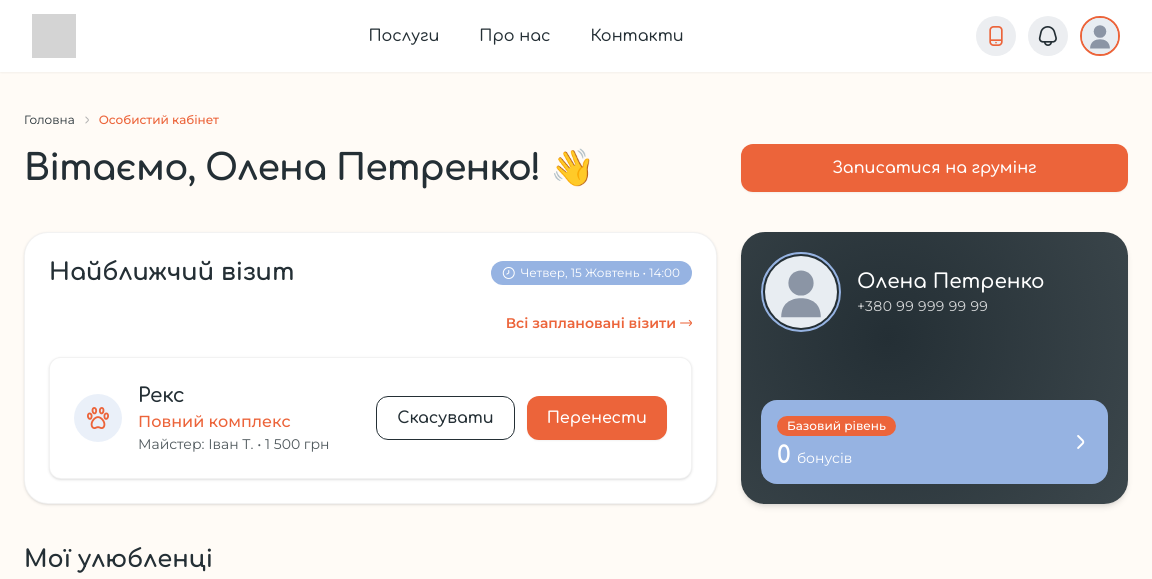
Test case: Profile Feature Components › ProfilePage Integration › cancels visit via Supabase update and renders empty state on success
The width and height of the screenshot is (1152, 579).
Expected: the text "Повний комплекс" is shown, x1=138 y1=412 x2=290 y2=431
Click the button "Скасувати" at (445, 418), box x1=376 y1=396 x2=515 y2=440
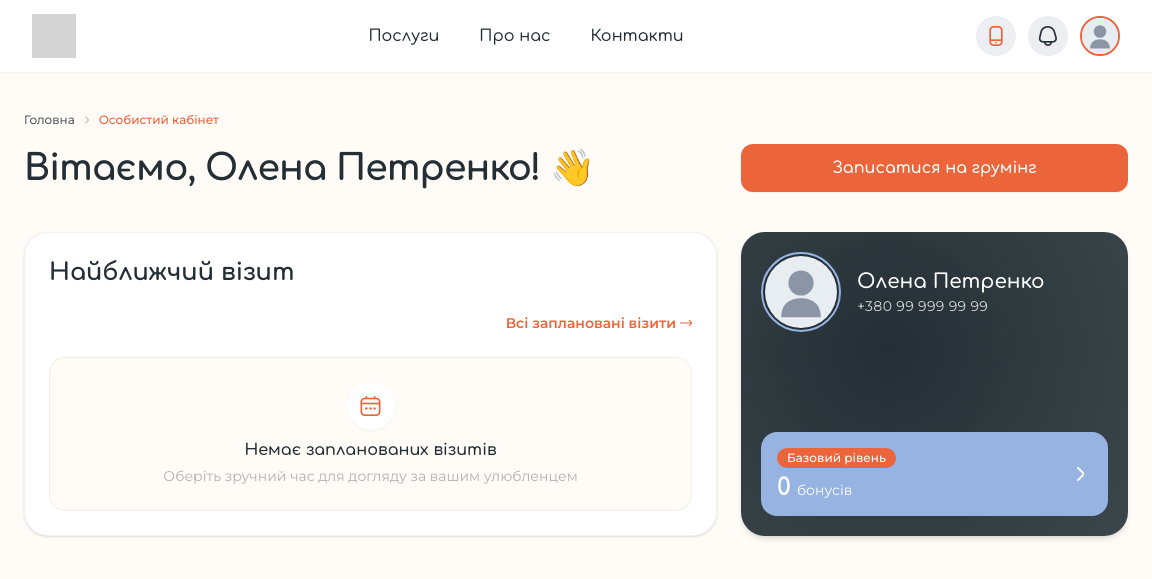
Expected: the text "Немає запланованих візитів" is shown, x1=244 y1=441 x2=496 y2=459
